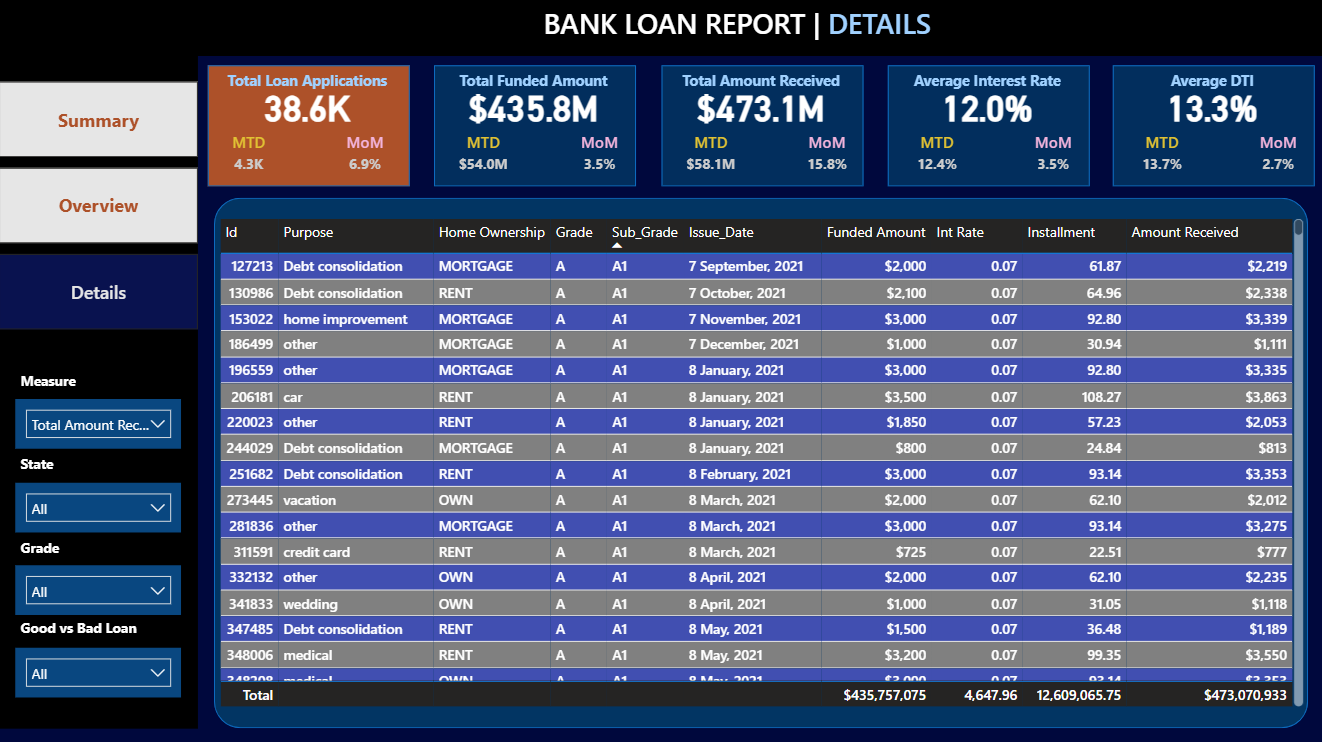

The page's visual inventory and layout, read from the dashboard file:
{"tool":"powerbi","page":{"name":"Details","canvas":[1280,720],"ordinal":2},"visuals":[{"type":"shape","box":[0,0,1280,55],"z":0},{"type":"shape","box":[201.9,63.4,195,117],"z":0,"group":"g2"},{"type":"shape","box":[419.4,64,195,117],"z":0,"group":"g1"},{"type":"shape","box":[639.8,64,195,117],"z":0,"group":"g4"},{"type":"shape","box":[857.2,64,195,117],"z":0,"group":"g3"},{"type":"shape","box":[1074.7,64,195,117],"z":0,"group":"g5"},{"type":"shape","box":[0,48,192,656],"z":1000},{"type":"card","fields":{"Values":["bank_loan_data.Total Loan Applications"]},"box":[201.9,79.4,192,48],"z":1000,"group":"g2"},{"type":"card","fields":{"Values":["bank_loan_data.Total Funded Amount"]},"box":[419.4,80,192,48],"z":1000,"group":"g1"},{"type":"card","fields":{"Values":["bank_loan_data.Total Amount Received"]},"box":[639.8,80,192,48],"z":1000,"group":"g4"},{"type":"card","fields":{"Values":["bank_loan_data.Avg Interest Rate"]},"box":[857.2,80,192,48],"z":1000,"group":"g3"},{"type":"card","fields":{"Values":["bank_loan_data.Avg DTI"]},"box":[1074.7,80,192,48],"z":1000,"group":"g5"},{"type":"textbox","box":[201.9,63.4,192,32],"z":2000,"group":"g2"},{"type":"textbox","box":[419.4,64,192,32],"z":2000,"group":"g1"},{"type":"textbox","box":[639.8,64,192,32],"z":2000,"group":"g4"},{"type":"textbox","box":[857.2,64,192,32],"z":2000,"group":"g3"},{"type":"textbox","box":[1074.7,64,192,32],"z":2000,"group":"g5"},{"type":"shape","box":[208,192,1056,512],"z":2000},{"type":"textbox","box":[288,0,848,48],"z":3000},{"type":"card","title":"MTD","fields":{"Values":["bank_loan_data.MTD"]},"box":[217.9,127.4,48,48],"z":3000,"group":"g2"},{"type":"card","title":"MTD","fields":{"Values":["bank_loan_data.MTD Funded Amount"]},"box":[435.4,128,64,48],"z":3000,"group":"g1"},{"type":"card","title":"MTD","fields":{"Values":["bank_loan_data.MTD Total Amount Received"]},"box":[655.8,128,64,48],"z":3000,"group":"g4"},{"type":"card","title":"MTD","fields":{"Values":["bank_loan_data.MTD Avg Int Rate"]},"box":[873.2,128,64,48],"z":3000,"group":"g3"},{"type":"card","title":"MTD","fields":{"Values":["bank_loan_data.MTD Avg DTI"]},"box":[1090.7,128,64,48],"z":3000,"group":"g5"},{"type":"group","id":"g1","title":"Group 1","box":[419.4,64,195,117],"z":4000},{"type":"card","title":"MoM","fields":{"Values":["bank_loan_data.Month To Month Loan Application"]},"box":[329.9,127.4,48,48],"z":4000,"group":"g2"},{"type":"card","title":"MoM","fields":{"Values":["bank_loan_data.MonthToMonth Total Funded Amount"]},"box":[547.4,128,64,48],"z":4000,"group":"g1"},{"type":"card","title":"MoM","fields":{"Values":["bank_loan_data.MonthToMonth Total Amount Received"]},"box":[767.8,128,64,48],"z":4000,"group":"g4"},{"type":"card","title":"MoM","fields":{"Values":["bank_loan_data.MonthToMonth Avg Int Rate"]},"box":[985.2,128,64,48],"z":4000,"group":"g3"},{"type":"card","title":"MoM","fields":{"Values":["bank_loan_data.MonthToMonth Avg DTI"]},"box":[1202.7,128,64,48],"z":4000,"group":"g5"},{"type":"group","id":"g2","title":"Group 1","box":[201.9,63.4,192,128],"z":5000},{"type":"group","id":"g3","title":"Group 1","box":[857.2,64,192,128],"z":6000},{"type":"group","id":"g4","title":"Group 1","box":[639.8,64,192,128],"z":7000},{"type":"group","id":"g5","title":"Group 1","box":[1074.7,64,192,128],"z":8000},{"type":"slicer","fields":{"Values":["bank_loan_data.address_state"]},"box":[16,466.7,160,48],"z":9000},{"type":"textbox","box":[16,434.7,112,32],"z":10000},{"type":"slicer","fields":{"Values":["bank_loan_data.grade"]},"box":[16,546.8,160,48],"z":11000},{"type":"textbox","box":[16,514.8,112,32],"z":12000},{"type":"slicer","fields":{"Values":["bank_loan_data.Good v Bad Loan"]},"box":[16,626.6,160,48],"z":13000},{"type":"textbox","box":[16,592,144,32],"z":14000},{"type":"slicer","fields":{"Values":["Select Measure.Select Measure"]},"box":[16,386.6,160,48],"z":15000},{"type":"textbox","box":[16,354.6,112,32],"z":16000},{"type":"tableEx","fields":{"Values":["bank_loan_data.id","bank_loan_data.purpose","bank_loan_data.home_ownership","bank_loan_data.grade","bank_loan_data.sub_grade","bank_loan_data.issue_date","bank_loan_data.Total Funded Amount","Sum(bank_loan_data.int_rate)","Sum(bank_loan_data.installment)","bank_loan_data.Total Amount Received"]},"box":[208,208,1056,480],"z":17000},{"type":"pageNavigator","box":[0,80,192,240],"z":18000}]}

Visuals, with their boxes in screenshot pixels (x1, y1, x2, y2), scaled from the page's 1280x720 canvas onto the 1322x742 screenshot:
shape: <bbox>0, 0, 1321, 57</bbox>
shape: <bbox>209, 65, 410, 186</bbox>
shape: <bbox>433, 66, 635, 187</bbox>
shape: <bbox>661, 66, 862, 187</bbox>
shape: <bbox>885, 66, 1087, 187</bbox>
shape: <bbox>1110, 66, 1311, 187</bbox>
shape: <bbox>0, 49, 198, 726</bbox>
card - bank_loan_data.Total Loan Applications: <bbox>209, 82, 407, 131</bbox>
card - bank_loan_data.Total Funded Amount: <bbox>433, 82, 631, 132</bbox>
card - bank_loan_data.Total Amount Received: <bbox>661, 82, 859, 132</bbox>
card - bank_loan_data.Avg Interest Rate: <bbox>885, 82, 1084, 132</bbox>
card - bank_loan_data.Avg DTI: <bbox>1110, 82, 1308, 132</bbox>
textbox: <bbox>209, 65, 407, 98</bbox>
textbox: <bbox>433, 66, 631, 99</bbox>
textbox: <bbox>661, 66, 859, 99</bbox>
textbox: <bbox>885, 66, 1084, 99</bbox>
textbox: <bbox>1110, 66, 1308, 99</bbox>
shape: <bbox>215, 198, 1305, 726</bbox>
textbox: <bbox>297, 0, 1173, 49</bbox>
"MTD" card: <bbox>225, 131, 275, 181</bbox>
"MTD" card: <bbox>450, 132, 516, 181</bbox>
"MTD" card: <bbox>677, 132, 743, 181</bbox>
"MTD" card: <bbox>902, 132, 968, 181</bbox>
"MTD" card: <bbox>1126, 132, 1193, 181</bbox>
"Group 1" group: <bbox>433, 66, 635, 187</bbox>
"MoM" card: <bbox>341, 131, 390, 181</bbox>
"MoM" card: <bbox>565, 132, 631, 181</bbox>
"MoM" card: <bbox>793, 132, 859, 181</bbox>
"MoM" card: <bbox>1018, 132, 1084, 181</bbox>
"MoM" card: <bbox>1242, 132, 1308, 181</bbox>
"Group 1" group: <bbox>209, 65, 407, 197</bbox>
"Group 1" group: <bbox>885, 66, 1084, 198</bbox>
"Group 1" group: <bbox>661, 66, 859, 198</bbox>
"Group 1" group: <bbox>1110, 66, 1308, 198</bbox>
slicer - bank_loan_data.address_state: <bbox>17, 481, 182, 530</bbox>
textbox: <bbox>17, 448, 132, 481</bbox>
slicer - bank_loan_data.grade: <bbox>17, 564, 182, 613</bbox>
textbox: <bbox>17, 531, 132, 564</bbox>
slicer - bank_loan_data.Good v Bad Loan: <bbox>17, 646, 182, 695</bbox>
textbox: <bbox>17, 610, 165, 643</bbox>
slicer - Select Measure.Select Measure: <bbox>17, 398, 182, 448</bbox>
textbox: <bbox>17, 365, 132, 398</bbox>
tableEx - bank_loan_data.id x bank_loan_data.purpose: <bbox>215, 214, 1305, 709</bbox>
pageNavigator: <bbox>0, 82, 198, 330</bbox>
